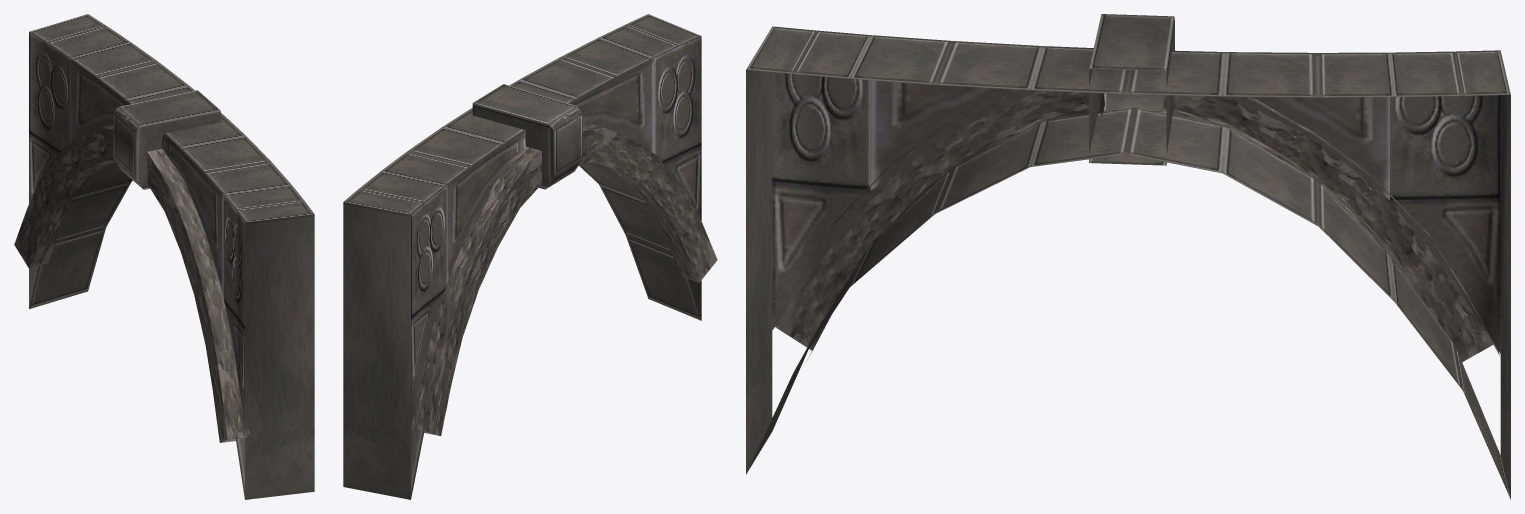
The model's file is CH09_SMAUG_PLAYSURFACE_LAIR34.fbx.
The picture shows the model from 3 angles, left to right: view 1: azimuth 30°, elevation 25°; view 2: azimuth 150°, elevation 25°; view 3: azimuth 270°, elevation 25°; orthographic projection. The views are drawn at different scales.
Parts seen in each view (by area): view 1: CH09_SMAUG_PLAYSURFACE_LAIR34; view 2: CH09_SMAUG_PLAYSURFACE_LAIR34; view 3: CH09_SMAUG_PLAYSURFACE_LAIR34.
Part boxes in pixels (x1,y1,x2,y2): CH09_SMAUG_PLAYSURFACE_LAIR34: (14,14,314,499); CH09_SMAUG_PLAYSURFACE_LAIR34: (343,14,717,499); CH09_SMAUG_PLAYSURFACE_LAIR34: (746,14,1510,499).
Size of the model in its own units: 33480 by 79711 by 130654.
Materials: 3 (3 with a texture image).
